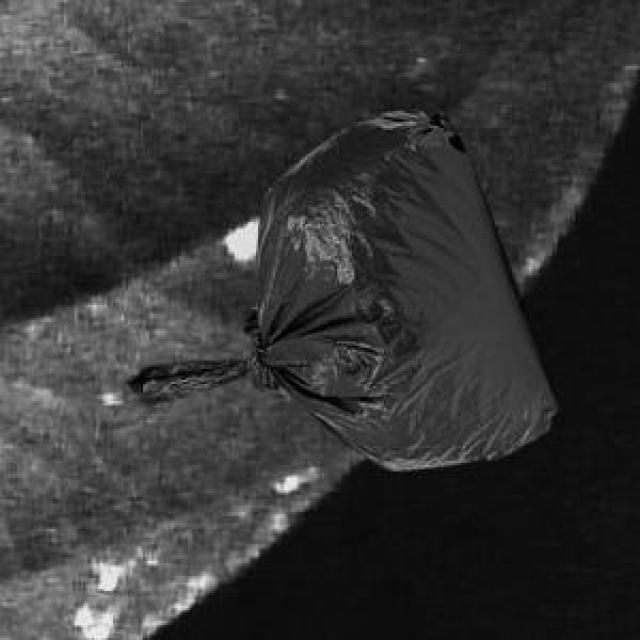miscellaneous trash: (124, 105, 553, 465)
